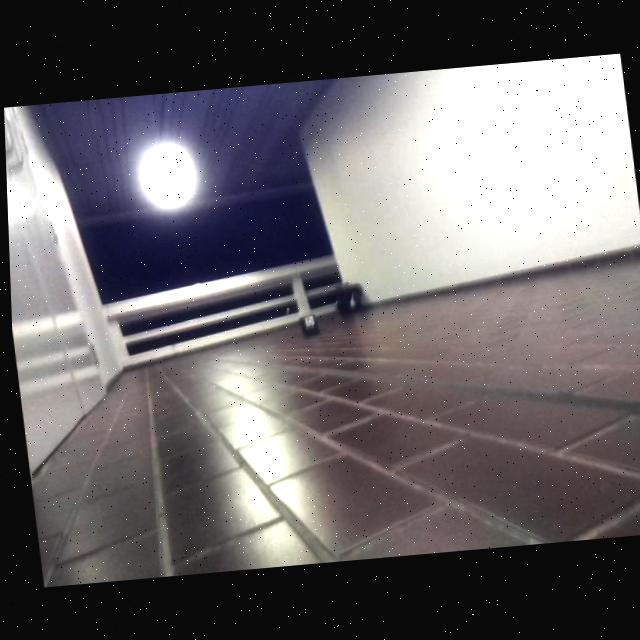D: (303, 316, 311, 325)
